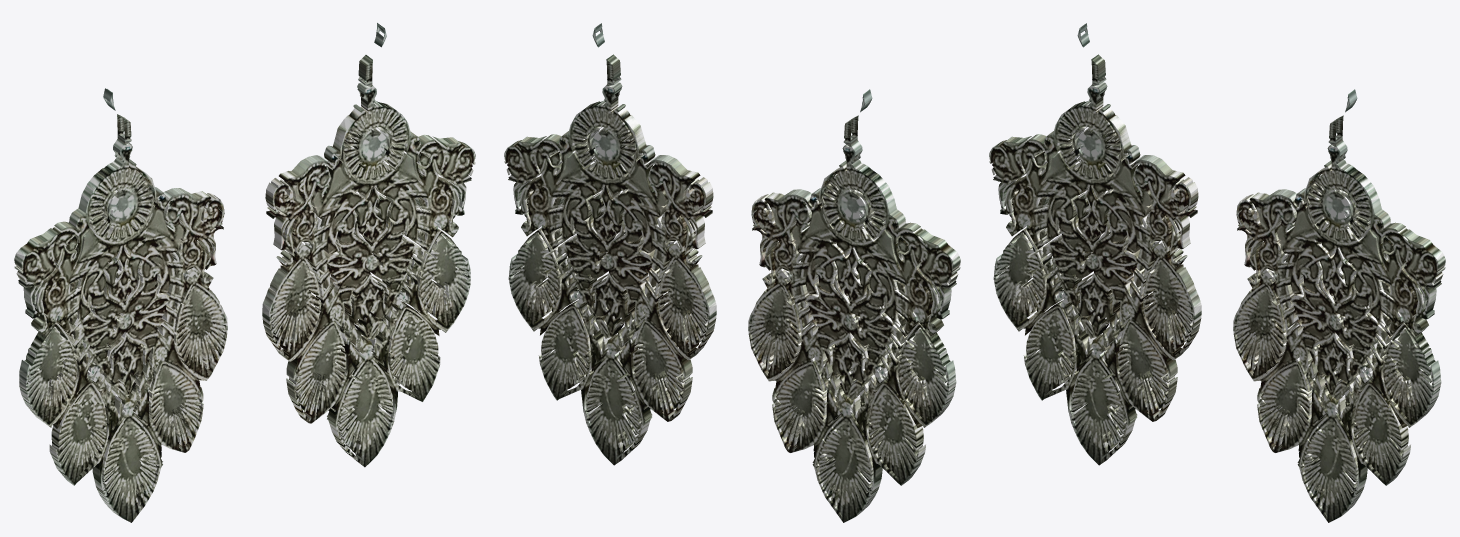
File: earring final.fbx
The picture shows the model from 3 angles, left to right: view 1: azimuth 30°, elevation 25°; view 2: azimuth 150°, elevation 25°; view 3: azimuth 330°, elevation 25°; orthographic projection.
Parts seen in each view (by area): view 1: ImageToStl.com_earing_normal_0, ImageToStl.com_earing_normal_0.001; view 2: ImageToStl.com_earing_normal_0, ImageToStl.com_earing_normal_0.001; view 3: ImageToStl.com_earing_normal_0.001, ImageToStl.com_earing_normal_0.
Boxes of the visible parts, box(x1,y1,x2,y2) form: ImageToStl.com_earing_normal_0: box(14, 88, 227, 522); ImageToStl.com_earing_normal_0.001: box(262, 23, 475, 467); ImageToStl.com_earing_normal_0: box(748, 89, 960, 522); ImageToStl.com_earing_normal_0.001: box(504, 23, 716, 465); ImageToStl.com_earing_normal_0.001: box(1233, 89, 1445, 522); ImageToStl.com_earing_normal_0: box(989, 23, 1201, 465).
Bounding box in the file's own units: 129 × 122 × 4.57.
Materials: 1 (1 with a texture image).
